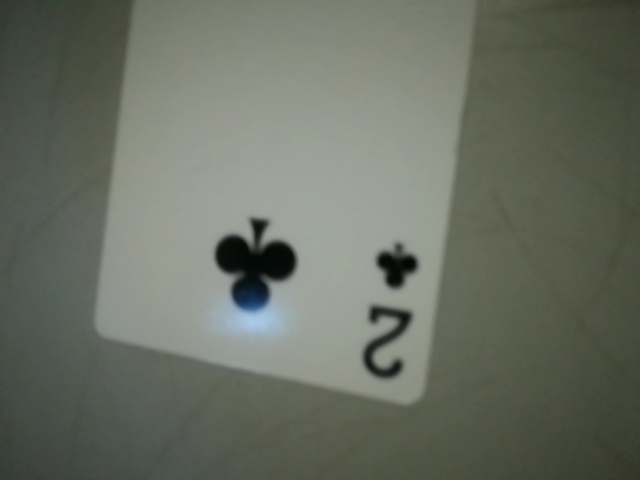mh 2: (345, 222, 433, 402)
